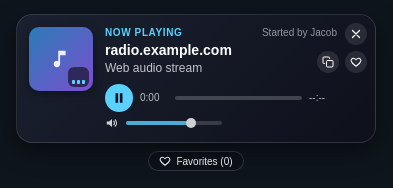
it: RoomStreamWidgetView › mutes from the speaker icon and brings the volume back
Click the button named "Mute the room music" at (112, 123), box [105,116,119,130]
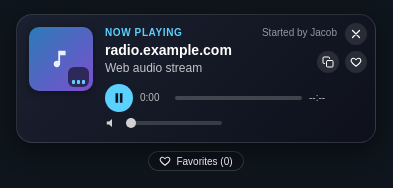
Result: the slider named "Room music volume" holds "0" at [126,116,222,130]
Click the button named "Unmute the room music" at (112, 123), box [105,116,119,130]
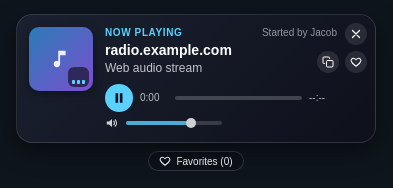
Result: the slider named "Room music volume" holds "70" at [126,116,222,130]
